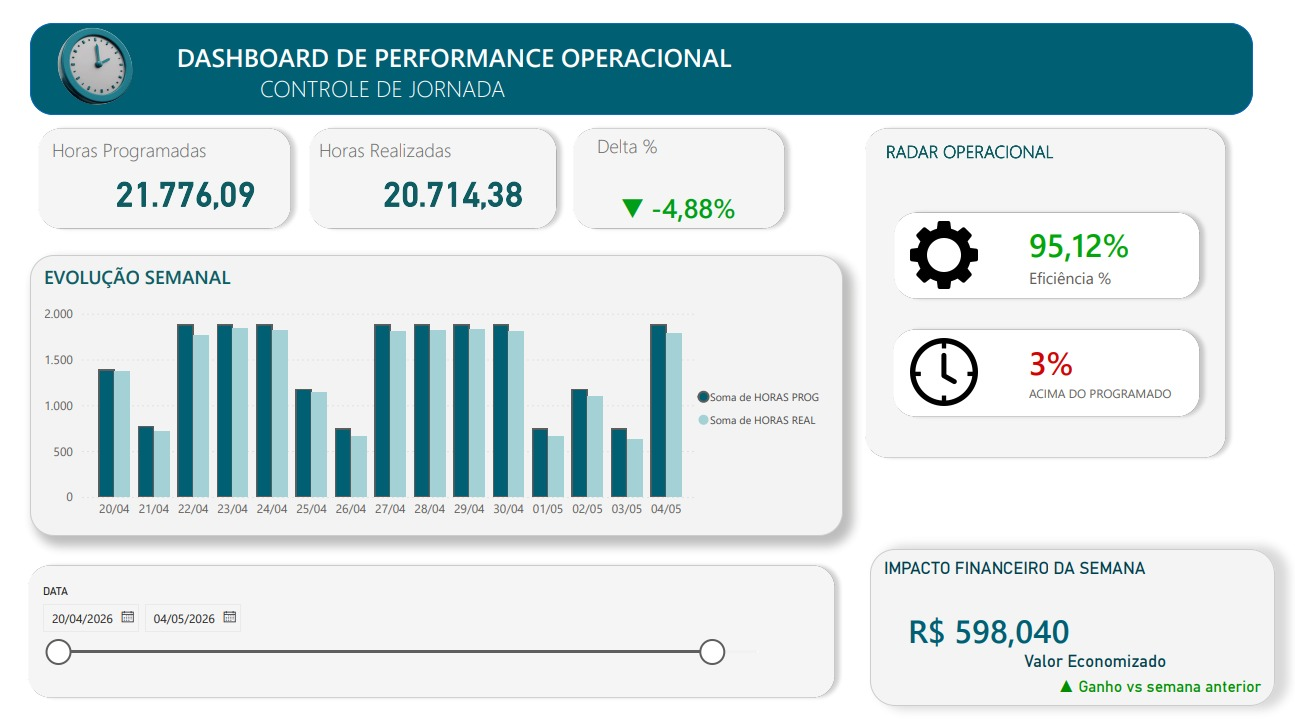

What the dashboard file says about the page in this screenshot:
{"tool":"powerbi","page":{"name":"Página 1","canvas":[1280,720],"ordinal":0},"visuals":[{"type":"cardVisual","title":"IMPACTO FINANCEIRO DA SEMANA","fields":{"Data":["Sum(Tabela1.VALOR ECOMIZADO)"]},"box":[850.1,535.9,404.6,156.6],"z":0},{"type":"lineClusteredColumnComboChart","title":"EVOLUÇÃO SEMANAL","fields":{"Category":["Tabela1.DATA"],"Y":["Sum(Tabela1.HORAS PROG)","Sum(Tabela1.HORAS REAL)"]},"box":[9.7,242.2,813.1,281.1],"z":1000},{"type":"card","title":"Valor Economizado","fields":{"Values":["Tabela1.Status Comparativo"]},"box":[999.2,638.3,280.8,54.1],"z":2000},{"type":"shape","box":[10.1,107.1,268.4,117.3],"z":3000},{"type":"card","title":"Horas Programadas","fields":{"Values":["Tabela1.Total Horas Prog"]},"box":[27.1,124.1,277.4,83.5],"z":4000},{"type":"shape","box":[280.8,107.1,263.9,117.3],"z":5000},{"type":"card","title":"Horas Realizadas","fields":{"Values":["Tabela1.Total Horas Real"]},"box":[294.3,124.1,277.4,83.5],"z":6000},{"type":"shape","box":[544.7,107.1,227.8,117.3],"z":7000},{"type":"cardVisual","title":"Delta %","fields":{"Data":["Tabela1.Delta Visual"]},"box":[571.9,119.6,200.4,112.8],"z":8000},{"type":"shape","box":[0,543.7,822.9,149.8],"z":9000},{"type":"shape","box":[837.4,107,376.4,346.3],"z":10000},{"type":"shape","box":[865.7,190.6,321.9,103.1],"z":11000},{"type":"image","box":[890,176,68.1,132.3],"z":12000},{"type":"cardVisual","fields":{"Data":["Tabela1.Eficiência %"]},"box":[980.4,92.4,299.6,299.6],"z":13000},{"type":"slicer","fields":{"Values":["Tabela1.DATA"]},"box":[10.1,567.3,750,98.1],"z":14000},{"type":"shape","box":[864.7,308.3,322.9,104.1],"z":15000},{"type":"cardVisual","fields":{"Data":["Tabela1.% Hora Extra Real"]},"box":[980.4,208.1,299.6,299.6],"z":16000},{"type":"image","box":[890,307.4,68.1,104.1],"z":17000},{"type":"shape","title":"ACOMPANHAMENTO DE JORNADA","box":[9.7,9.7,1223.6,92.4],"z":18000},{"type":"textbox","title":"CONTROLE DE JORNADA","box":[235.4,60.3,364.7,115.7],"z":19000},{"type":"image","box":[27.2,9.7,90.5,85.6],"z":19001}]}

Visuals, with their boxes in screenshot pixels (x1, y1, x2, y2), scaled from the page's 1280x720 canvas onto the 1295x727 screenshot:
"IMPACTO FINANCEIRO DA SEMANA" cardVisual: locate(860, 541, 1269, 699)
"EVOLUÇÃO SEMANAL" lineClusteredColumnComboChart: locate(10, 245, 832, 528)
"Valor Economizado" card: locate(1011, 645, 1294, 699)
shape: locate(10, 108, 282, 227)
"Horas Programadas" card: locate(27, 125, 308, 210)
shape: locate(284, 108, 551, 227)
"Horas Realizadas" card: locate(298, 125, 578, 210)
shape: locate(551, 108, 782, 227)
"Delta %" cardVisual: locate(579, 121, 781, 235)
shape: locate(0, 549, 833, 700)
shape: locate(847, 108, 1228, 458)
shape: locate(876, 192, 1202, 297)
image: locate(900, 178, 969, 311)
cardVisual - Tabela1.Eficiência %: locate(992, 93, 1294, 396)
slicer - Tabela1.DATA: locate(10, 573, 769, 672)
shape: locate(875, 311, 1202, 416)
cardVisual - Tabela1.% Hora Extra Real: locate(992, 210, 1294, 513)
image: locate(900, 310, 969, 416)
"ACOMPANHAMENTO DE JORNADA" shape: locate(10, 10, 1248, 103)
"CONTROLE DE JORNADA" textbox: locate(238, 61, 607, 178)
image: locate(28, 10, 119, 96)
